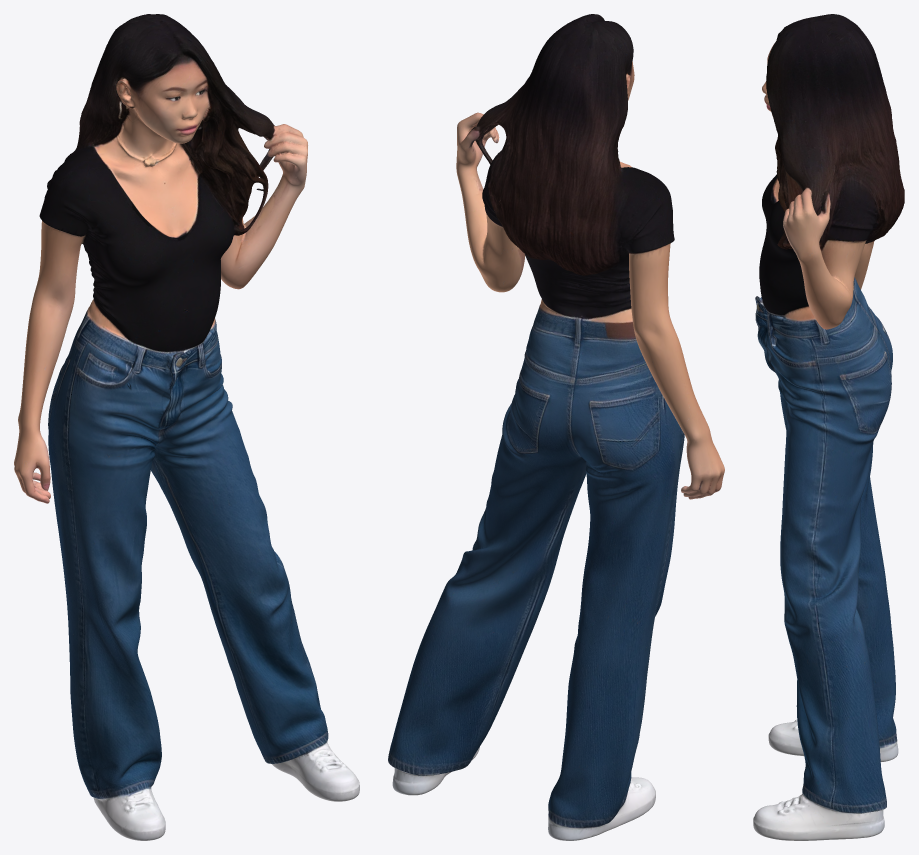
File: casual-denim-ensemble-2-c970febe.glb
3 views of the same model, side by side, from view 1: azimuth 30°, elevation 25°; view 2: azimuth 150°, elevation 25°; view 3: azimuth 270°, elevation 25° (orthographic). The views are drawn at different scales.
Parts seen in each view (by area): view 1: mesh_0; view 2: mesh_0; view 3: mesh_0.
Boxes of the visible parts, x1=… form: mesh_0: x1=14, y1=14, x2=359, y2=840; mesh_0: x1=388, y1=14, x2=724, y2=840; mesh_0: x1=753, y1=14, x2=904, y2=840.
Size of the model in its own units: 0.791 by 1.9 by 0.3512.
1 material, 1 textured.
